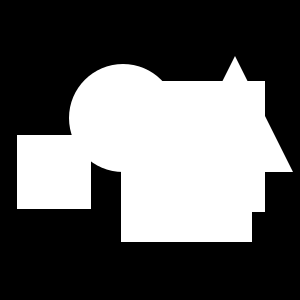circle: (134, 81, 265, 212), (121, 111, 252, 242), (17, 135, 91, 209)
rectangle: (69, 64, 177, 172)
triangle: (177, 56, 293, 172)
